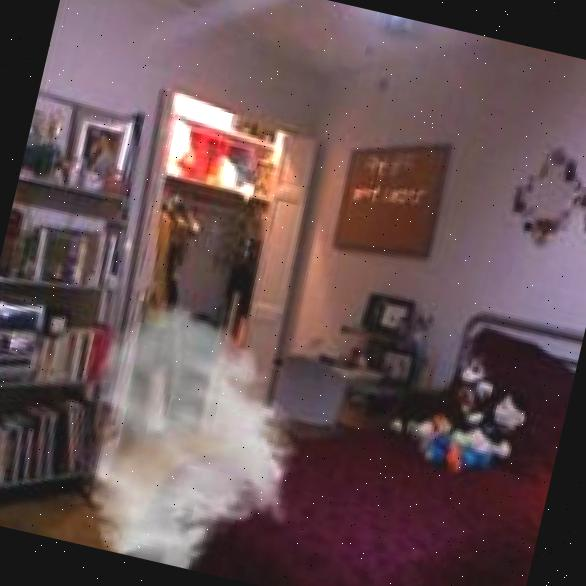smoke: (55, 285, 332, 586)
